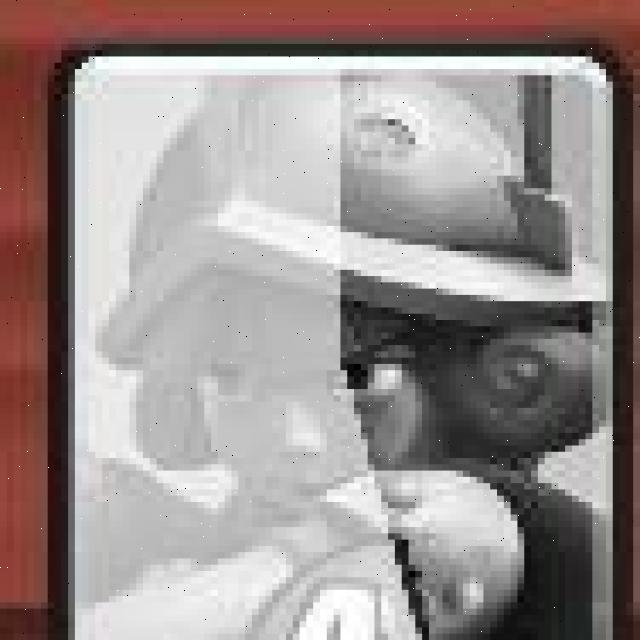Musketeer: (56, 44, 635, 640)
